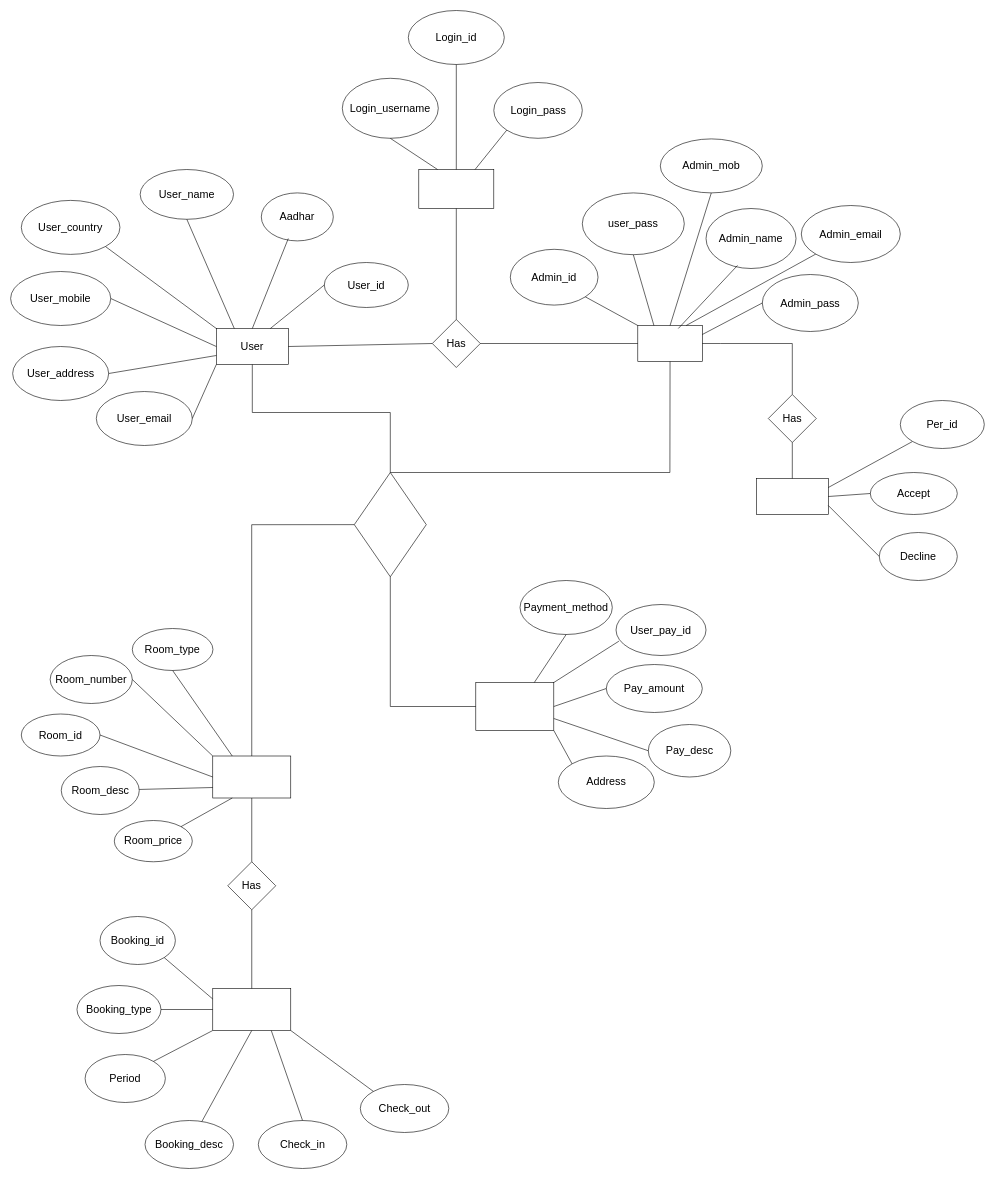
The diagram is 995 pixels wide and 1179 high, and some of its shapes have lost their labels. The centre of each missing label's shape, as x and y in pixels:
Admin: (669,343)
Booking: (251,1009)
Login: (456,188)
manage: (390,524)
Payment: (514,706)
Permission: (792,496)
Room: (251,776)
